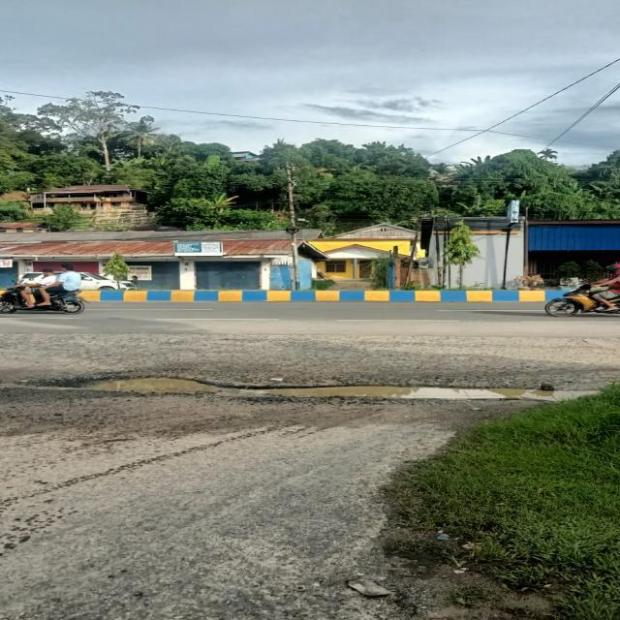lubang: (0, 377, 603, 401)
